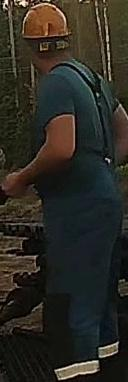helmet: (20, 2, 72, 49)
